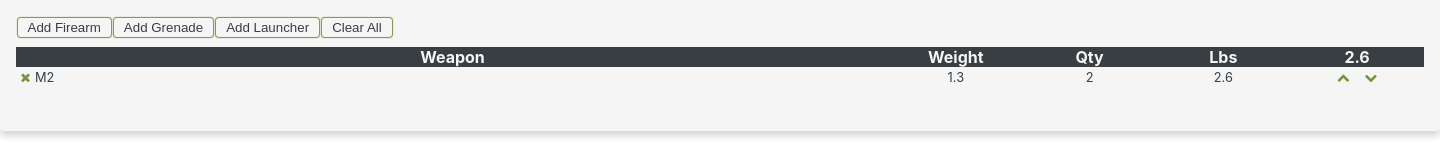
weapons card intergration tests › selecting grenades › should be possible to increment grenade qty down
The width and height of the screenshot is (1440, 160).
Click the button with class "button--down" at (1371, 77), box [1363,69,1379,85]
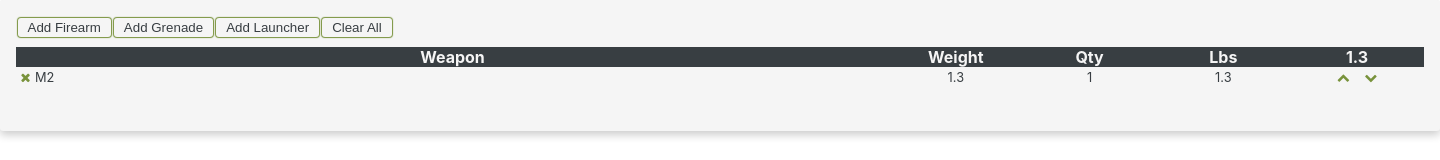
Expected: the element with class "gear-table-row--container" reads "M2 1.3 1 1.3", [16,66,1424,88]
